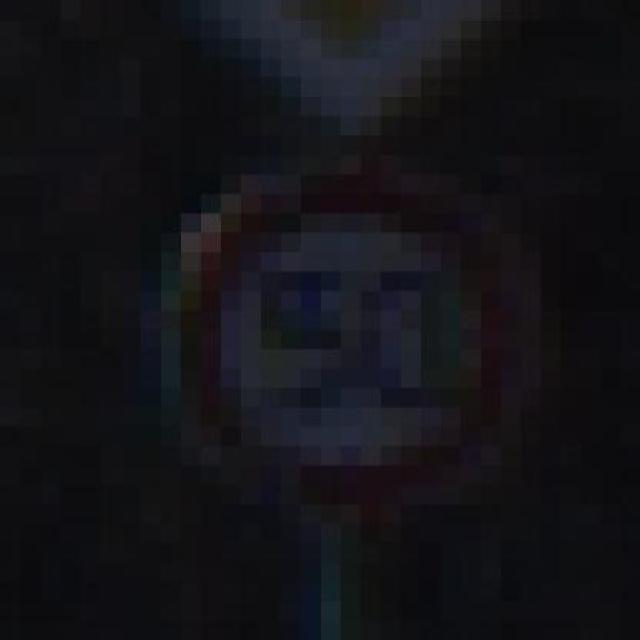50 mph speed limit: (140, 155, 560, 523)
